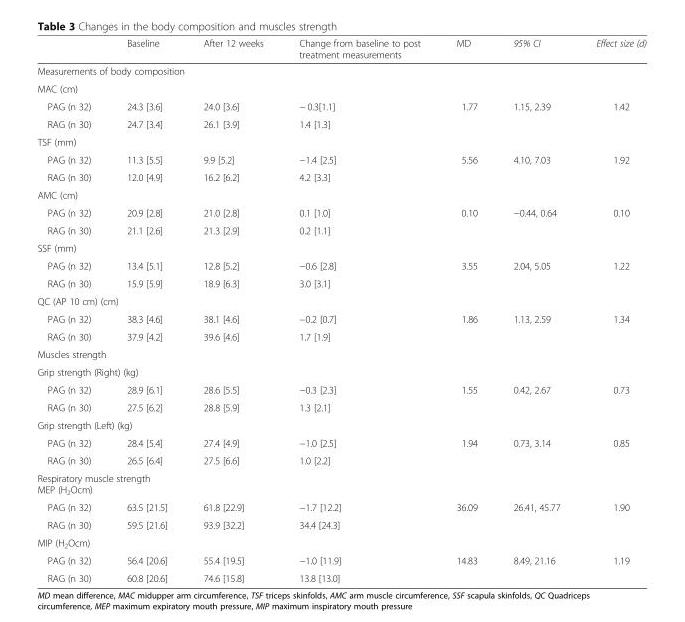table: (36, 37, 645, 583)
table column: (280, 37, 437, 583), (184, 37, 280, 583), (494, 37, 577, 583), (108, 37, 184, 583), (36, 37, 108, 583), (577, 37, 645, 583), (437, 37, 494, 583)
table column header: (36, 37, 645, 62)
table projected row header: (36, 469, 645, 498), (36, 79, 645, 97), (36, 132, 645, 150), (36, 185, 645, 203), (36, 238, 645, 256), (36, 362, 645, 380), (36, 415, 645, 433), (36, 533, 645, 551), (36, 62, 645, 79), (36, 292, 645, 309), (36, 345, 645, 362)
table row: (36, 469, 645, 498), (36, 37, 645, 62), (36, 79, 645, 97), (36, 97, 645, 115), (36, 132, 645, 150), (36, 150, 645, 168), (36, 185, 645, 203), (36, 203, 645, 221), (36, 238, 645, 256), (36, 256, 645, 274), (36, 274, 645, 292), (36, 309, 645, 327), (36, 327, 645, 345), (36, 362, 645, 380), (36, 380, 645, 398), (36, 415, 645, 433), (36, 433, 645, 451), (36, 451, 645, 469), (36, 515, 645, 533), (36, 533, 645, 551), (36, 62, 645, 79), (36, 115, 645, 132), (36, 168, 645, 185), (36, 221, 645, 238), (36, 292, 645, 309), (36, 345, 645, 362), (36, 398, 645, 415), (36, 498, 645, 515), (36, 551, 645, 568), (36, 568, 645, 583)
table spanning cell: (494, 256, 577, 292), (494, 309, 577, 345), (494, 433, 577, 469), (494, 97, 577, 132), (494, 150, 577, 185), (494, 203, 577, 238), (494, 380, 577, 415), (494, 498, 577, 533), (494, 551, 577, 583), (577, 256, 645, 292), (577, 309, 645, 345), (577, 433, 645, 469), (577, 97, 645, 132), (577, 150, 645, 185), (577, 203, 645, 238), (577, 380, 645, 415), (577, 498, 645, 533), (577, 551, 645, 583), (437, 256, 494, 292), (437, 309, 494, 345), (437, 433, 494, 469), (437, 97, 494, 132), (437, 150, 494, 185), (437, 203, 494, 238), (437, 380, 494, 415), (437, 498, 494, 533), (437, 551, 494, 583)
